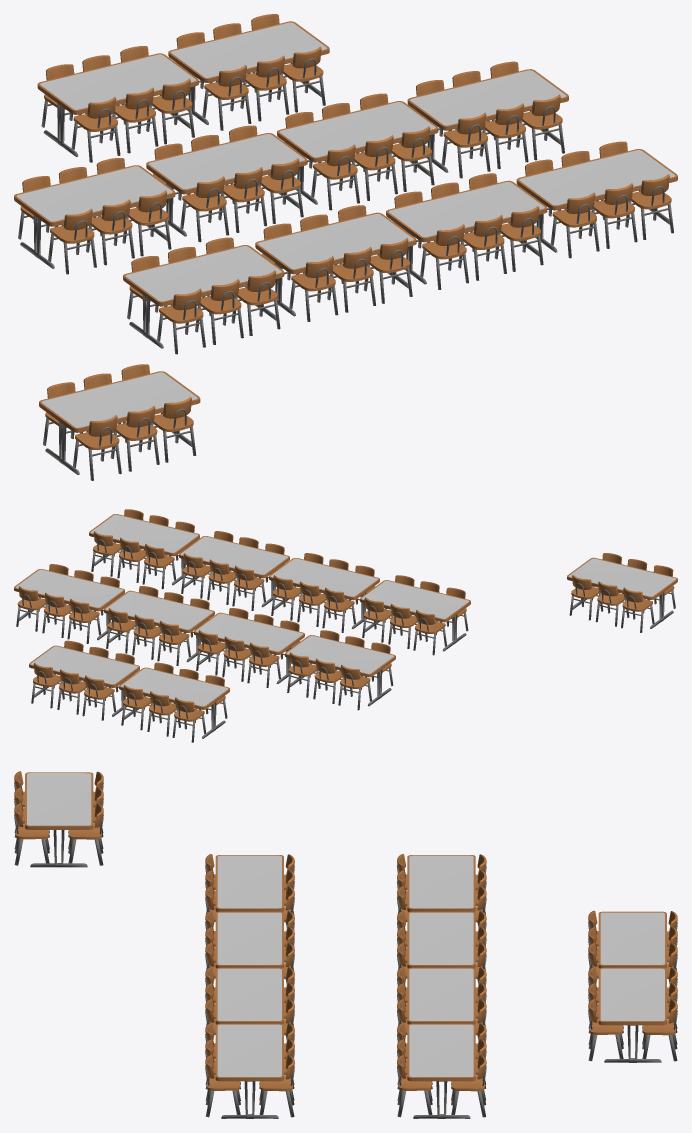
The model's file is d-roomcomp-d-mensa-in.glb.
3 renders of one model, top to bottom at view 1: azimuth 30°, elevation 25°; view 2: azimuth 150°, elevation 25°; view 3: azimuth 270°, elevation 25°, orthographic. The views are drawn at different scales.
Visible parts, largest first — view 1: beegTable.048, beegTable.051, beegTable.049, beegTable.050, beegTable.033, beegTable.057, beegTable.047, beegTable.046, beegTable.056, beegTable.058, beegTable.032; view 2: beegTable.050, beegTable.048, beegTable.051, beegTable.049, beegTable.033, beegTable.057, beegTable.047, beegTable.032, beegTable.056, beegTable.058, beegTable.046; view 3: beegTable.050, beegTable.047, beegTable.058, beegTable.046, beegTable.051, beegTable.049, beegTable.033, beegTable.032, beegTable.057, beegTable.056, beegTable.048.
Boxes of the visible parts, x1=… form: beegTable.048: x1=37, y1=46, x2=198, y2=162; beegTable.051: x1=14, y1=158, x2=175, y2=274; beegTable.049: x1=123, y1=237, x2=284, y2=354; beegTable.050: x1=39, y1=364, x2=200, y2=480; beegTable.033: x1=146, y1=125, x2=307, y2=242; beegTable.057: x1=255, y1=205, x2=416, y2=321; beegTable.047: x1=168, y1=14, x2=329, y2=130; beegTable.046: x1=407, y1=61, x2=568, y2=178; beegTable.056: x1=386, y1=173, x2=547, y2=289; beegTable.058: x1=516, y1=141, x2=677, y2=258; beegTable.032: x1=277, y1=93, x2=438, y2=210; beegTable.050: x1=567, y1=553, x2=677, y2=632; beegTable.048: x1=119, y1=662, x2=229, y2=742; beegTable.051: x1=285, y1=630, x2=395, y2=710; beegTable.049: x1=360, y1=575, x2=470, y2=655; beegTable.033: x1=194, y1=608, x2=304, y2=687; beegTable.057: x1=269, y1=553, x2=379, y2=632; beegTable.047: x1=29, y1=640, x2=139, y2=720; beegTable.032: x1=103, y1=586, x2=214, y2=665; beegTable.056: x1=179, y1=531, x2=289, y2=610; beegTable.058: x1=89, y1=509, x2=199, y2=589; beegTable.046: x1=14, y1=564, x2=124, y2=643; beegTable.050: x1=14, y1=771, x2=103, y2=867; beegTable.047: x1=588, y1=966, x2=677, y2=1062; beegTable.058: x1=205, y1=1022, x2=294, y2=1118; beegTable.046: x1=397, y1=1022, x2=486, y2=1118; beegTable.051: x1=397, y1=854, x2=486, y2=930; beegTable.049: x1=205, y1=854, x2=294, y2=946; beegTable.033: x1=397, y1=910, x2=486, y2=1002; beegTable.032: x1=397, y1=966, x2=486, y2=1040; beegTable.057: x1=205, y1=910, x2=294, y2=984; beegTable.056: x1=205, y1=966, x2=294, y2=1040; beegTable.048: x1=588, y1=910, x2=677, y2=983.
Size of the model in its own units: 13.75 by 1.07 by 12.62.
1 material, 1 textured.
